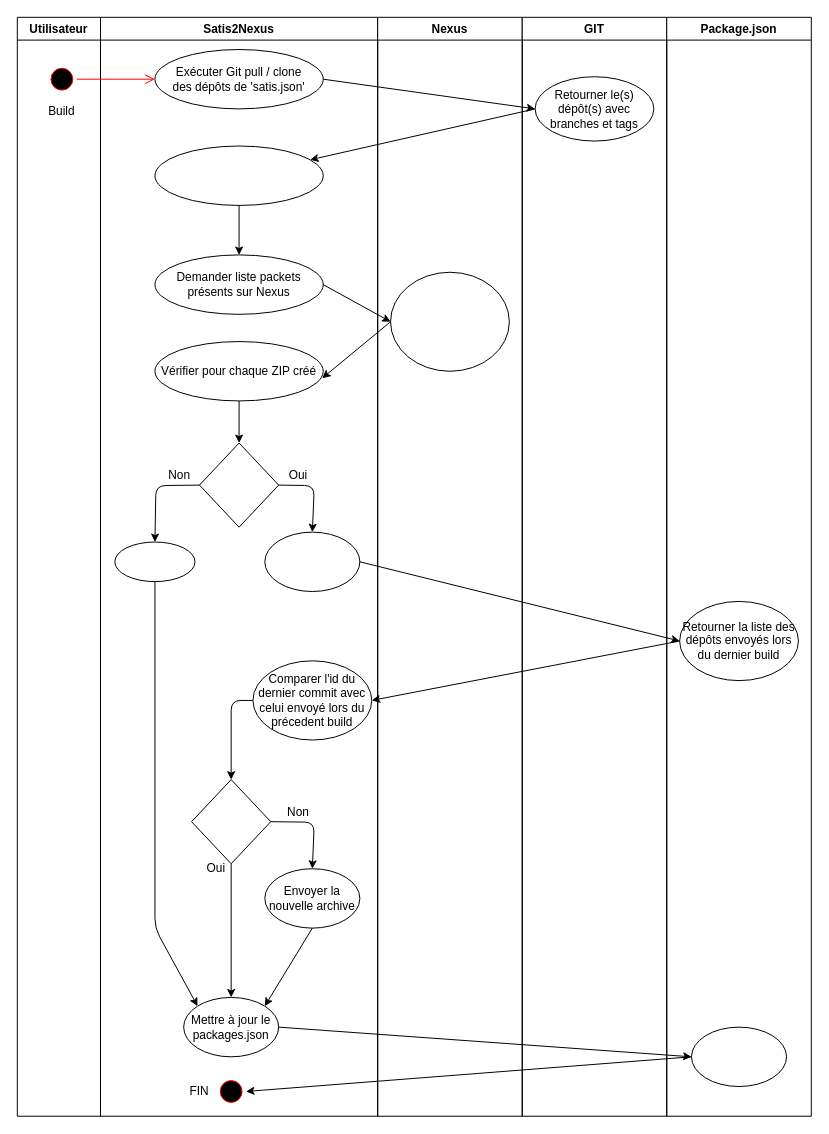
The diagram is 829 pixels wide and 1134 high, and some of its shapes have lost their labels. The shapes that lost their labels are listed below. From the top down, each one's centre as x and y in pixels, then its label:
point 238,175: Créer tous les ZIP qui n'existent pas déjà (en fonction de l'id du commit)
point 449,321: Retourner les packages présents (sans id de commit, info non disponible)
point 238,484: Le dépôt existe-t-il sur Nexus ?
point 154,561: Créer le dépôt
point 312,561: Vérifier si le dépôt est à jour
point 231,821: Le dépôt est-il à jour ?
point 739,1056: Mise à jour
